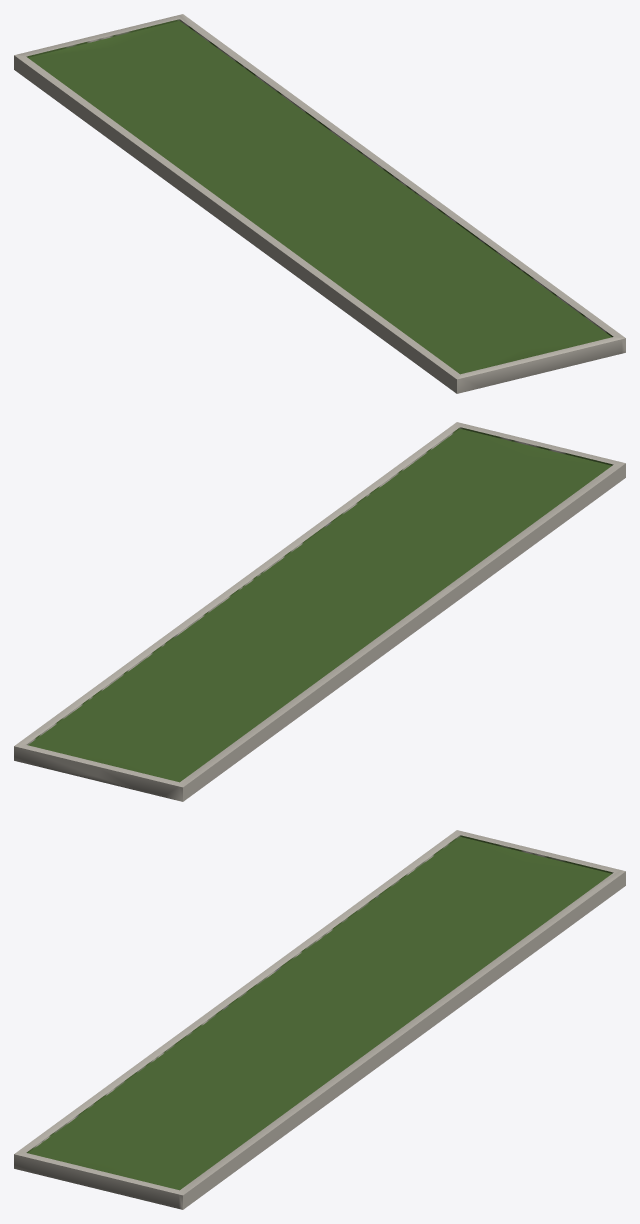
File: bon_co_234797329.mid.glb
3 renders of one model, top to bottom at view 1: azimuth 30°, elevation 25°; view 2: azimuth 150°, elevation 25°; view 3: azimuth 330°, elevation 25°, orthographic.
Parts seen in each view (by area): view 1: drawing; view 2: drawing; view 3: drawing.
Part boxes in pixels (x1=…): drawing: x1=14, y1=14, x2=625, y2=393; drawing: x1=14, y1=422, x2=625, y2=801; drawing: x1=14, y1=830, x2=625, y2=1209.
Size of the model in its own units: 5.49 by 0.45 by 24.9.
Materials: 2 (2 with a texture image).
